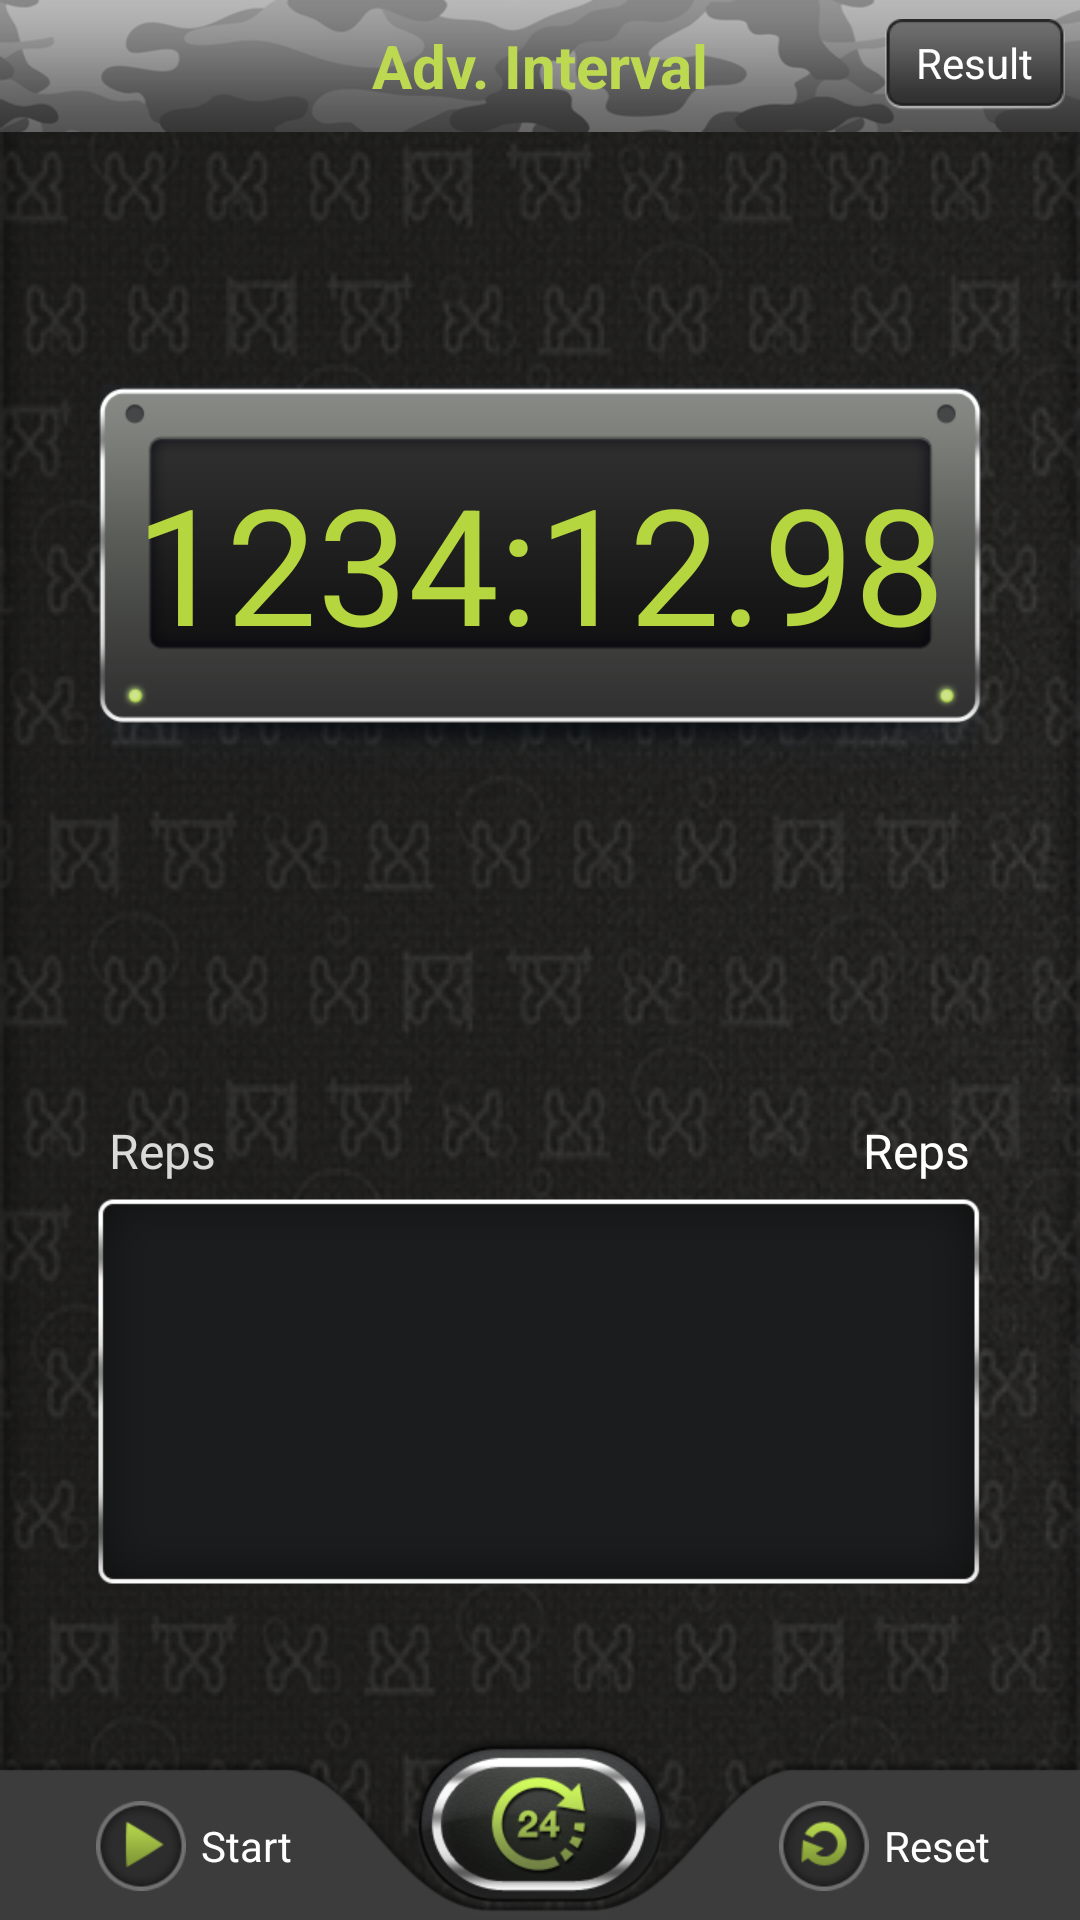

Screen size 1080w x 1920h. Icon name, then its center in pixels as [x,y]:
setting day round: [540,1821]
